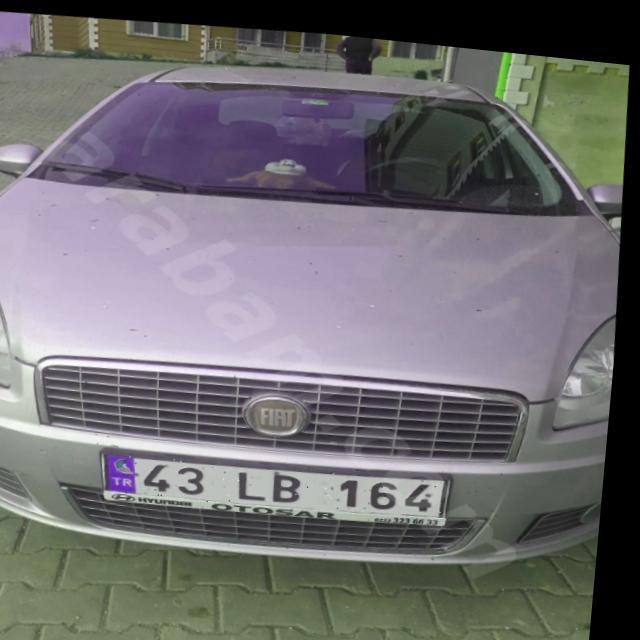license_plate: (107, 439, 456, 521)
